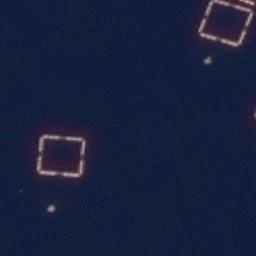square_solid: (34, 128, 92, 184), (194, 1, 255, 51)
